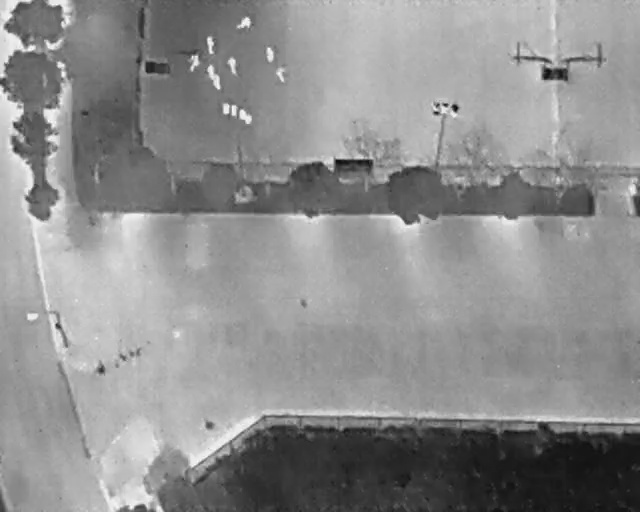Person: (236, 16, 252, 30), (227, 55, 238, 75), (189, 54, 200, 72), (265, 46, 275, 64), (206, 36, 215, 54), (276, 67, 286, 83), (207, 64, 215, 80), (213, 74, 221, 90)
